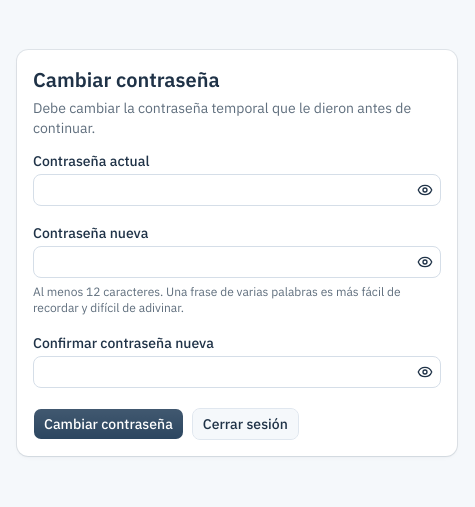
Scenario: sin escribir nada no hay medidor; el botón está habilitado y al enviar marca los tres campos y enfoca el primero
Step 1. Click the button "Cambiar contraseña" → (108, 424), box [33,408,184,440]
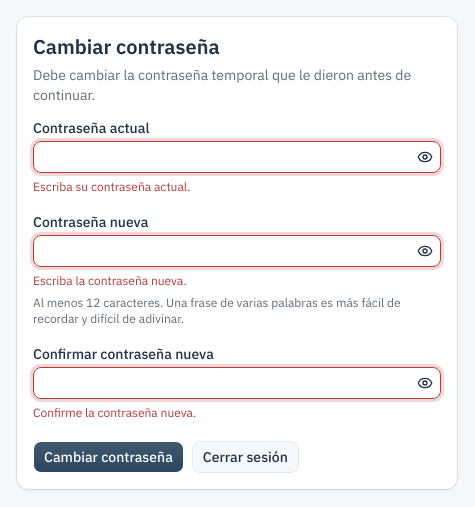
Now the text "Escriba su contraseña actual." is shown, box [33,179,190,194]
Now the text "Escriba la contraseña nueva." is shown, box [33,273,187,288]
Now the text "Confirme la contraseña nueva." is shown, box [33,405,196,420]
